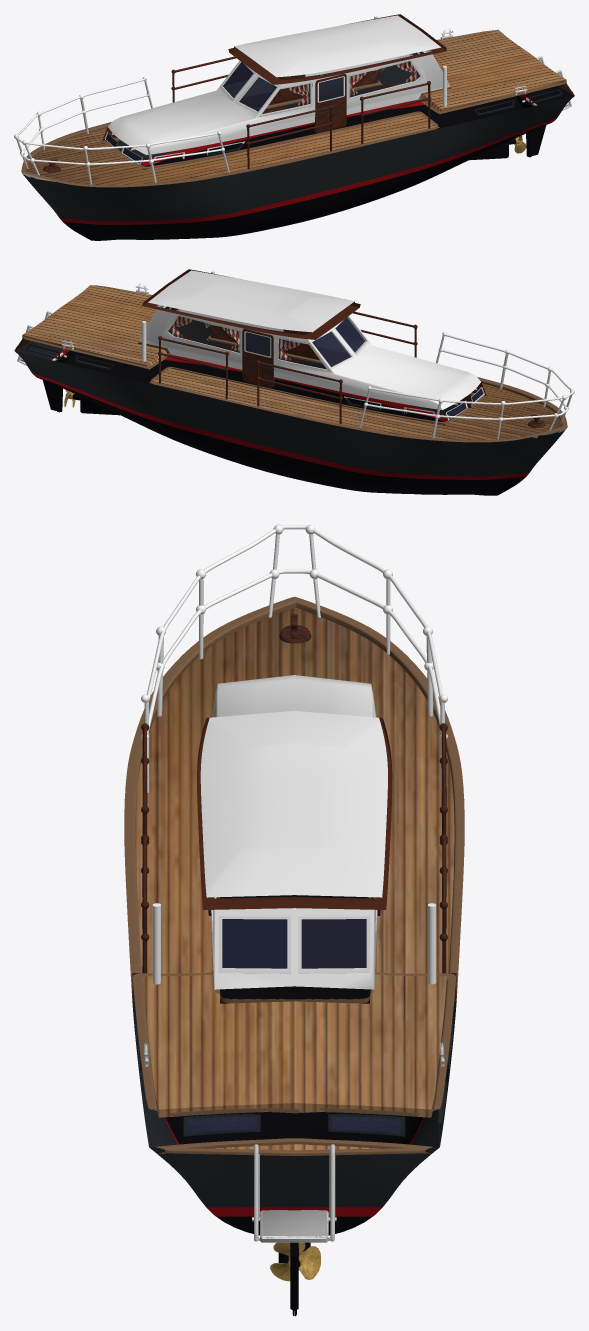
File: barco.glb
The picture shows the model from 3 angles, top to bottom: view 1: azimuth 30°, elevation 25°; view 2: azimuth 150°, elevation 25°; view 3: azimuth 270°, elevation 25°; orthographic projection. The views are drawn at different scales.
Visible parts, largest first — view 1: Object_26, Object_27, Object_3, Object_28, Object_4, Object_29, Object_15, Object_16, Object_18, Object_11, Object_23, Object_24 (+4 smaller); view 2: Object_26, Object_27, Object_3, Object_28, Object_4, Object_29, Object_15, Object_16, Object_18, Object_11, Object_23, Object_24 (+4 smaller); view 3: Object_27, Object_26, Object_28, Object_15, Object_3, Object_11, Object_29, Object_16, Object_20, Object_23, Object_24, Object_6 (+2 smaller).
Boxes of the visible parts, x1,y1,x2,y2 form: Object_26: (21, 15, 574, 221); Object_27: (26, 29, 566, 184); Object_3: (63, 95, 552, 240); Object_28: (21, 30, 573, 187); Object_4: (59, 94, 556, 224); Object_29: (102, 14, 574, 165); Object_15: (105, 51, 423, 163); Object_16: (45, 56, 431, 169); Object_18: (273, 74, 346, 133); Object_11: (220, 51, 568, 116); Object_23: (15, 79, 217, 149); Object_24: (20, 94, 221, 165); Object_26: (15, 270, 567, 476); Object_27: (22, 285, 561, 440); Object_3: (36, 350, 525, 495); Object_28: (15, 285, 567, 442); Object_4: (32, 349, 528, 479); Object_29: (14, 269, 486, 420); Object_15: (165, 306, 483, 419); Object_16: (157, 311, 543, 424); Object_18: (242, 329, 315, 388); Object_11: (20, 306, 368, 371); Object_23: (371, 334, 573, 404); Object_24: (367, 349, 568, 420); Object_27: (135, 607, 454, 1153); Object_26: (124, 596, 464, 1207); Object_28: (124, 597, 464, 1155); Object_15: (187, 919, 401, 1133); Object_3: (165, 895, 423, 1235); Object_11: (218, 916, 370, 1242); Object_29: (132, 717, 456, 1109); Object_16: (141, 614, 447, 973); Object_20: (141, 524, 447, 984); Object_23: (146, 525, 442, 700); Object_24: (149, 569, 440, 730); Object_6: (144, 897, 444, 1241).
Size of the model in its own units: 9.43 by 2.74 by 2.56.
14 materials, 11 textured.
